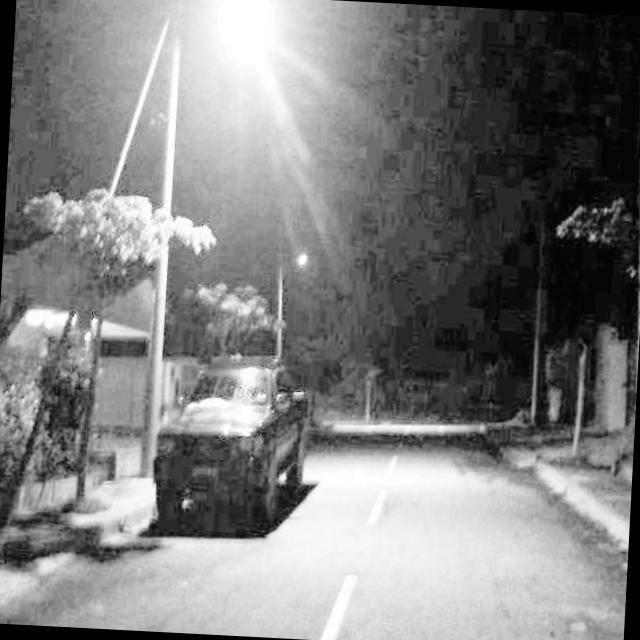Car: (146, 321, 348, 574)
